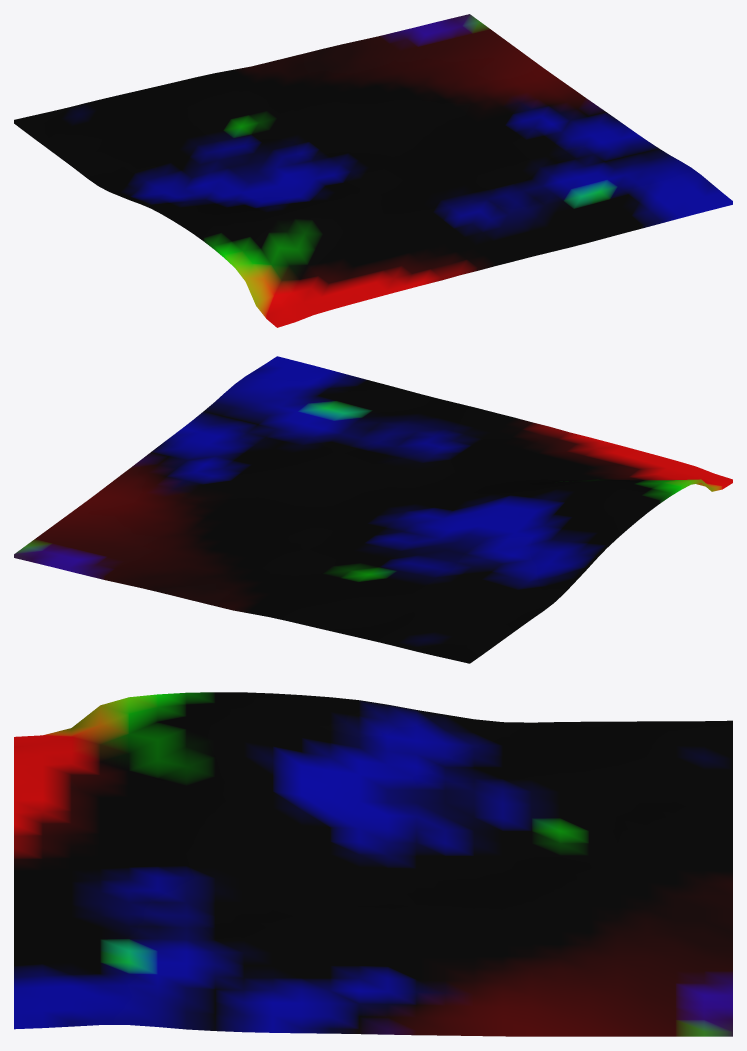
Rendered from coast_16_8.glb.
The picture shows the model from 3 angles, top to bottom: view 1: azimuth 30°, elevation 25°; view 2: azimuth 150°, elevation 25°; view 3: azimuth 270°, elevation 25°; orthographic projection. The views are drawn at different scales.
Visible parts, largest first — view 1: terrain; view 2: terrain; view 3: terrain.
Boxes of the visible parts, left/top/right/bottom form: terrain: left=14, top=14, right=732, bottom=327; terrain: left=14, top=356, right=732, bottom=663; terrain: left=14, top=692, right=732, bottom=1036.
Size of the model in its own units: 200 by 15.93 by 200.
